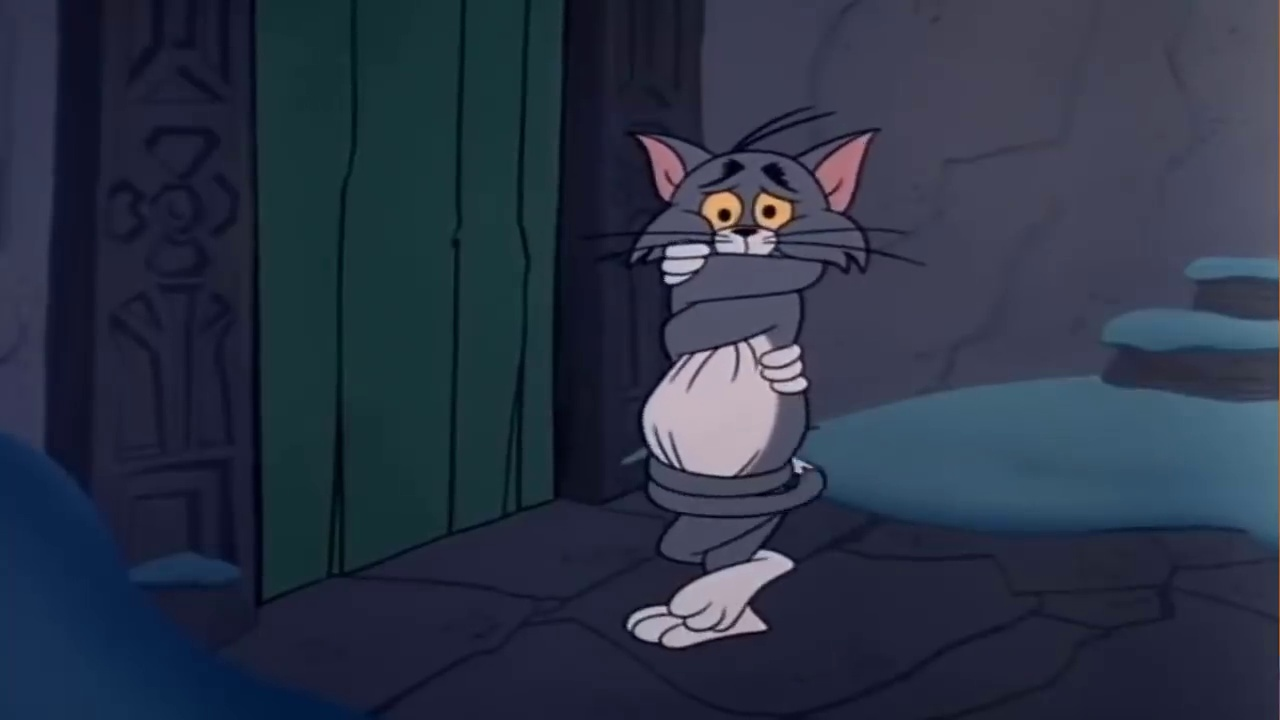face: (694, 154, 807, 256)
